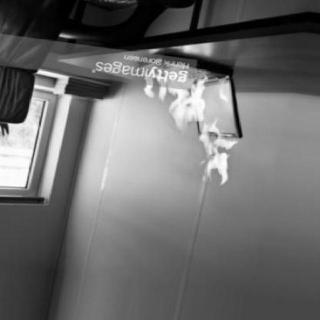Fire: (127, 55, 241, 191)
